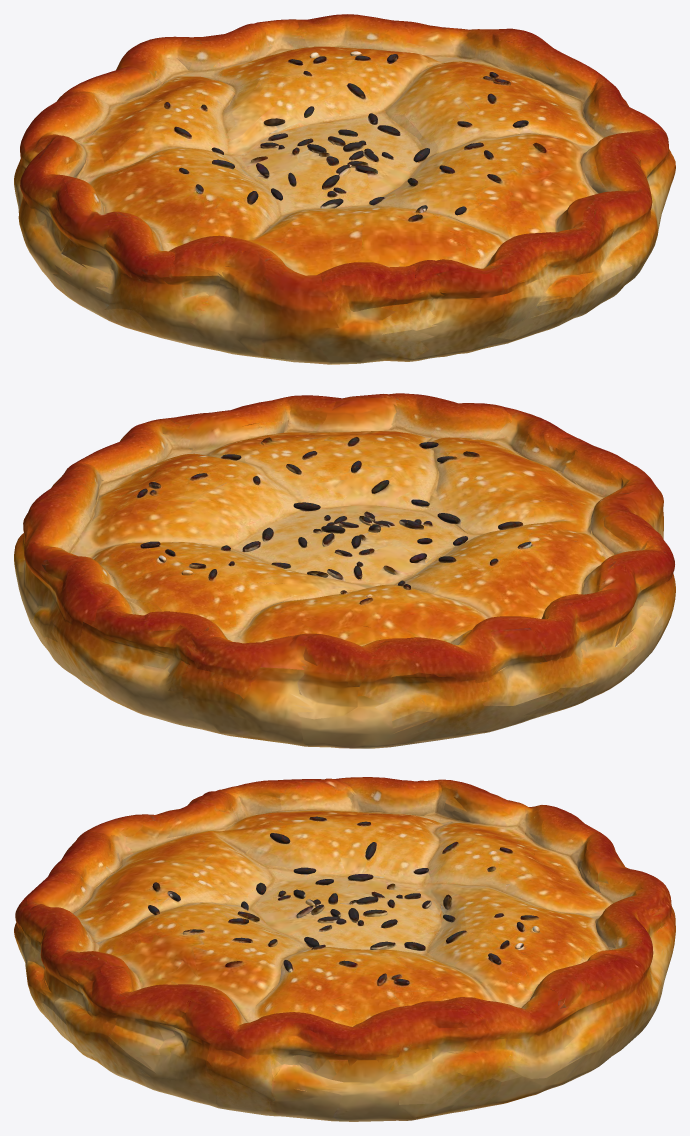
Rendered from pie.glb.
The picture shows the model from 3 angles, top to bottom: view 1: azimuth 30°, elevation 25°; view 2: azimuth 150°, elevation 25°; view 3: azimuth 270°, elevation 25°; orthographic projection.
Size of the model in its own units: 1.85 by 0.3311 by 1.9.
1 material, 1 textured.
